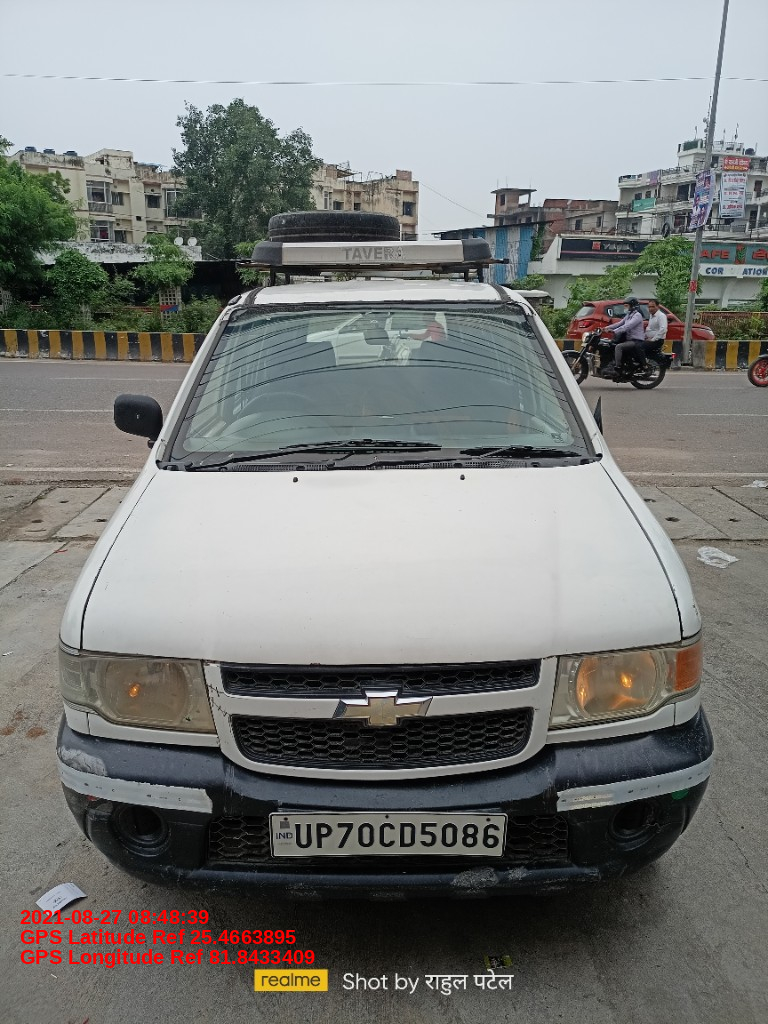PinFitted: (205, 698, 230, 723), (207, 681, 225, 699)
Scratched: (438, 864, 528, 894), (536, 869, 600, 896), (57, 746, 105, 779), (557, 790, 622, 810), (283, 881, 323, 904), (362, 886, 409, 902)
